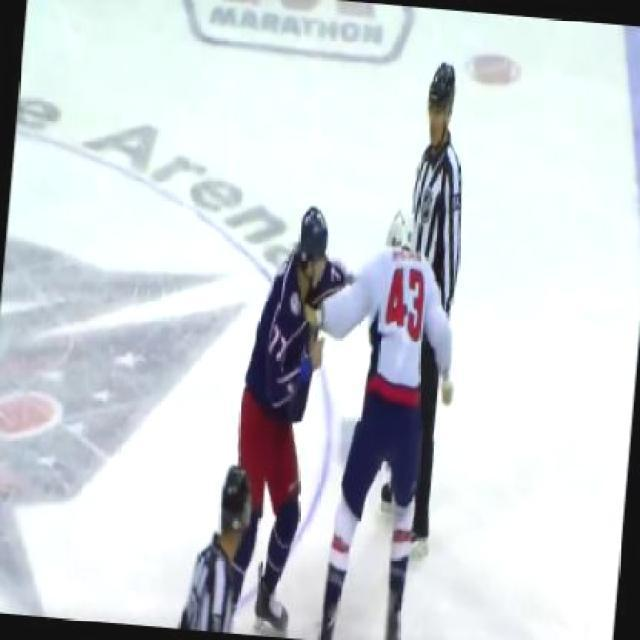fight: (222, 191, 469, 638)
